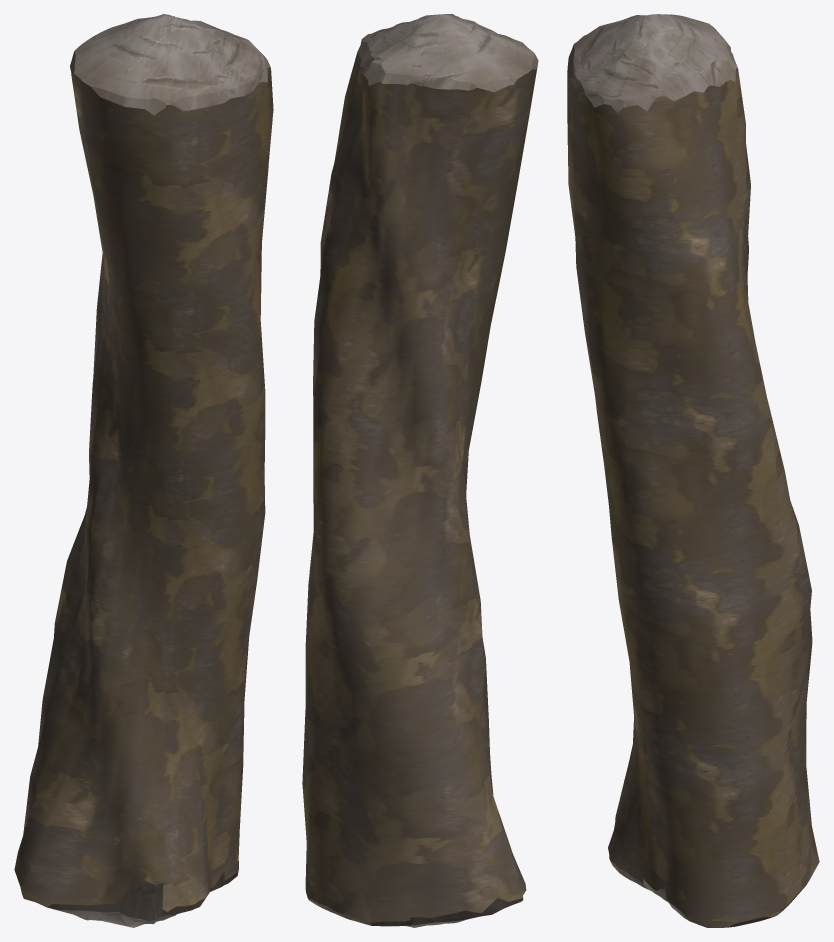
The picture shows the model from 3 angles, left to right: view 1: azimuth 30°, elevation 25°; view 2: azimuth 150°, elevation 25°; view 3: azimuth 270°, elevation 25°; orthographic projection. The views are drawn at different scales.
Parts seen in each view (by area): view 1: SM_Yew_03_half_bottom_LOD0; view 2: SM_Yew_03_half_bottom_LOD0; view 3: SM_Yew_03_half_bottom_LOD0.
Part boxes in pixels (x1,y1,x2,y2): SM_Yew_03_half_bottom_LOD0: [14, 14, 273, 927]; SM_Yew_03_half_bottom_LOD0: [302, 14, 538, 927]; SM_Yew_03_half_bottom_LOD0: [567, 14, 819, 927].
Size of the model in its own units: 0.9198 by 3.7 by 0.943.
Materials: 1 (1 with a texture image).
